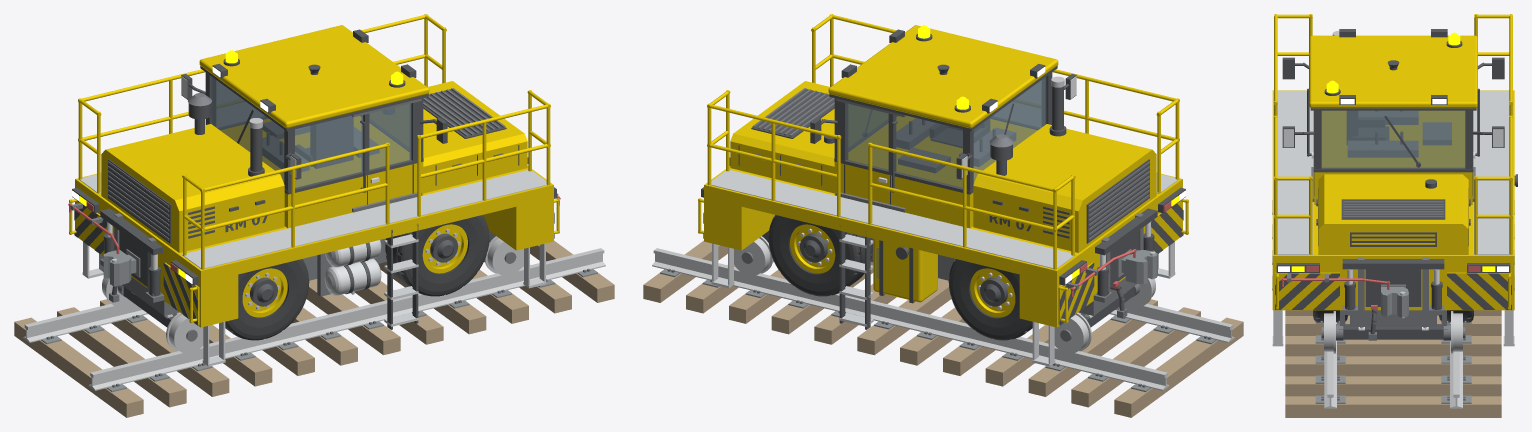
File: Road_Rail_Railcar_Mover.glb
3 views of the same model, side by side, from view 1: azimuth 30°, elevation 25°; view 2: azimuth 150°, elevation 25°; view 3: azimuth 270°, elevation 25° (orthographic). The views are drawn at different scales.
Visible parts, largest first — view 1: ties, cab_roof, engine_hood, rails, cab_glass, handrails, walkway_treads, tyres, deck, cab_lower, front_hood, end_box (+24 smaller); view 2: ties, cab_roof, engine_hood, rails, cab_glass, handrails, walkway_treads, cab_lower, deck, tyres, front_hood, end_box (+26 smaller); view 3: ties, cab_roof, walkway_treads, front_hood, cab_glass, cab_lower, handrails, deck, coupler_carriage, chevron_plates, consoles, chevron_stripes (+27 smaller).
Part boxes in pixels (<box>): ties: <box>14,240,614,417</box>; cab_roof: <box>199,25,429,128</box>; engine_hood: <box>101,124,284,252</box>; rails: <box>23,248,605,390</box>; cab_glass: <box>211,77,411,188</box>; handrails: <box>78,14,550,269</box>; walkway_treads: <box>79,170,546,269</box>; tyres: <box>225,215,489,340</box>; deck: <box>75,166,553,283</box>; cab_lower: <box>221,116,423,228</box>; front_hood: <box>423,81,527,193</box>; end_box: <box>77,187,553,327</box>; ties: <box>643,240,1243,417</box>; cab_roof: <box>828,25,1058,128</box>; engine_hood: <box>973,124,1156,252</box>; rails: <box>652,248,1234,390</box>; cab_glass: <box>846,77,1046,188</box>; handrails: <box>707,14,1179,269</box>; walkway_treads: <box>711,170,1178,269</box>; cab_lower: <box>834,116,1036,228</box>; deck: <box>704,166,1182,283</box>; tyres: <box>768,215,1032,340</box>; front_hood: <box>730,81,834,193</box>; end_box: <box>704,187,1180,327</box>; ties: <box>1285,310,1501,417</box>; cab_roof: <box>1309,35,1477,108</box>; walkway_treads: <box>1275,90,1510,254</box>; front_hood: <box>1318,174,1468,254</box>; cab_glass: <box>1321,110,1465,167</box>; cab_lower: <box>1314,111,1472,204</box>; handrails: <box>1274,14,1512,254</box>; deck: <box>1272,90,1514,267</box>; coupler_carriage: <box>1342,259,1444,306</box>; chevron_plates: <box>1275,272,1511,309</box>; consoles: <box>1348,111,1451,157</box>; chevron_stripes: <box>1275,273,1511,309</box>.
Size of the model in its own units: 6.8 by 3.25 by 2.95.
